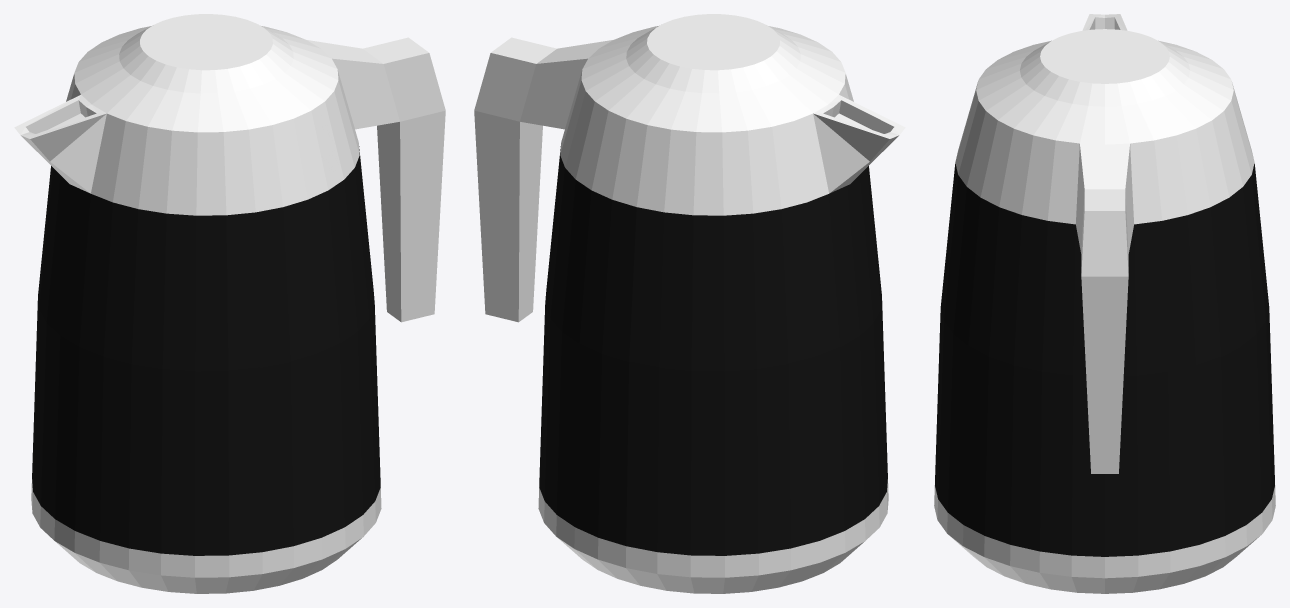
File: kettle_01.glb
3 renders of one model, left to right at view 1: azimuth 30°, elevation 25°; view 2: azimuth 150°, elevation 25°; view 3: azimuth 270°, elevation 25°, orthographic. The views are drawn at different scales.
Parts seen in each view (by area): view 1: Cylinder; view 2: Cylinder; view 3: Cylinder.
Boxes of the visible parts, x1,y1,x2,y2 form: Cylinder: (14,14,445,593); Cylinder: (474,14,905,593); Cylinder: (934,14,1275,593).
Bounding box in the file's own units: 0.2816 × 0.3192 × 0.2071.
Materials: 1 (1 with a texture image).
